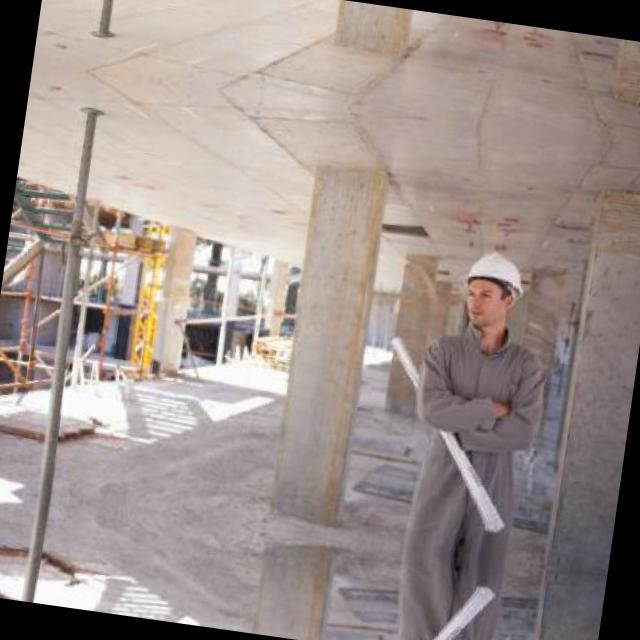helmet: (447, 240, 531, 336)
